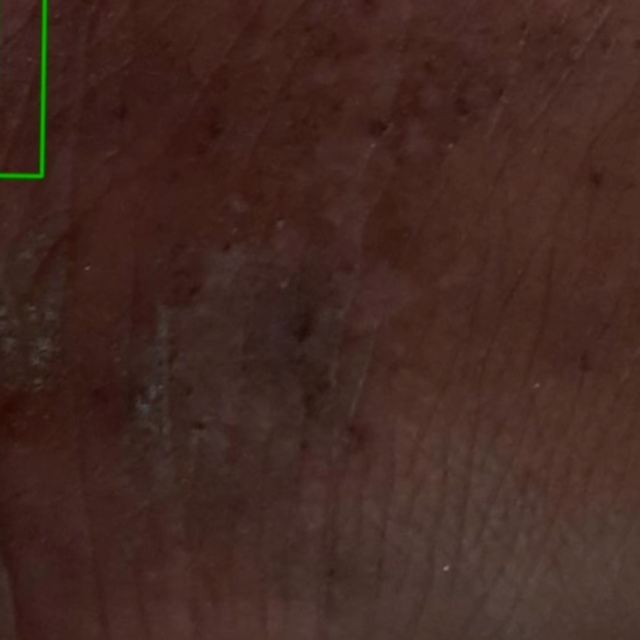Eczema: (0, 0, 44, 176)
